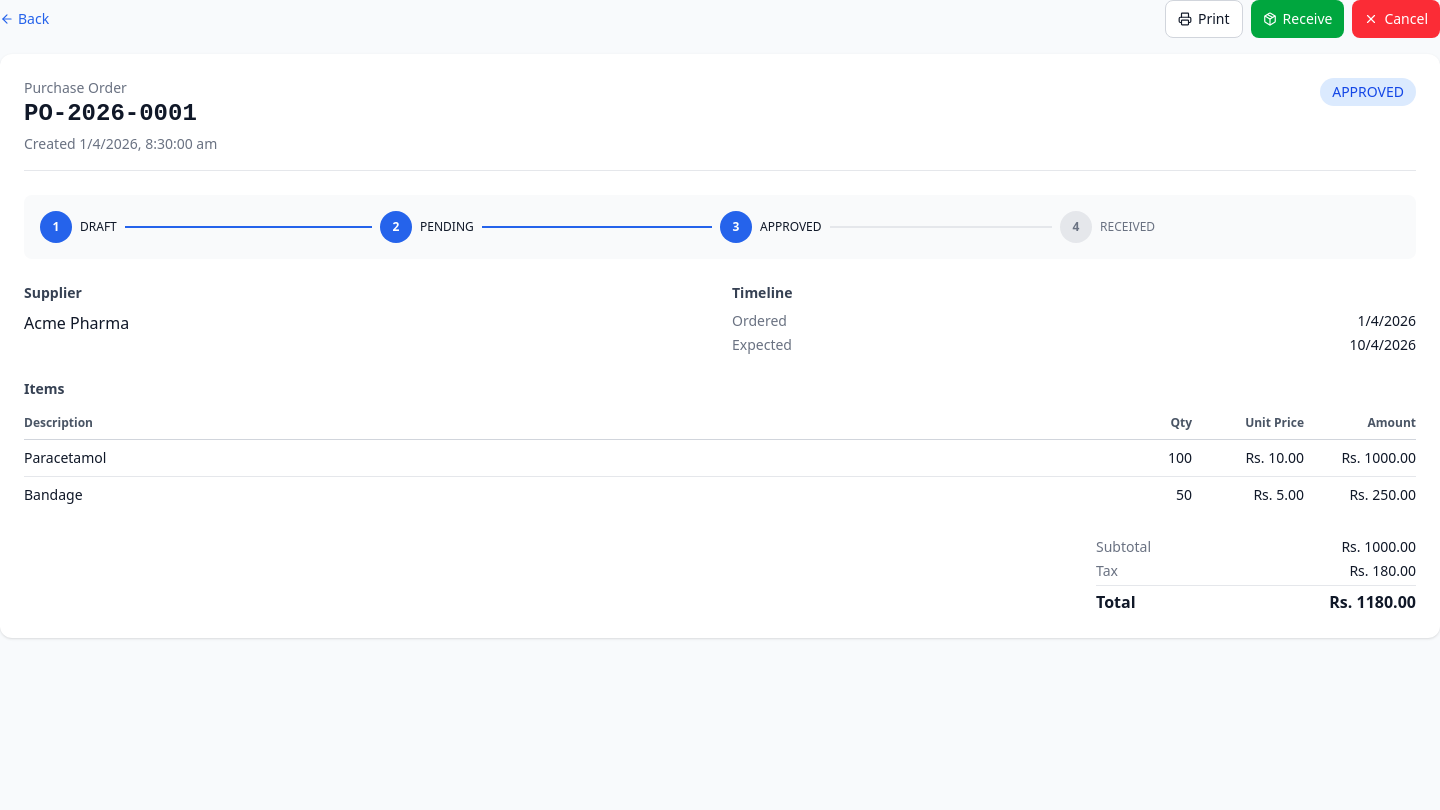
PurchaseOrderDetailPage — PO detail / status transitions / GRN › Receive modal opens with quantities pre-filled and POSTs full-receipt payload
Check: the heading "PO-2026-0001" is shown, box [24,98,217,130]
Click the button "Receive".
click(1298, 19)  # box [1251,0,1344,38]
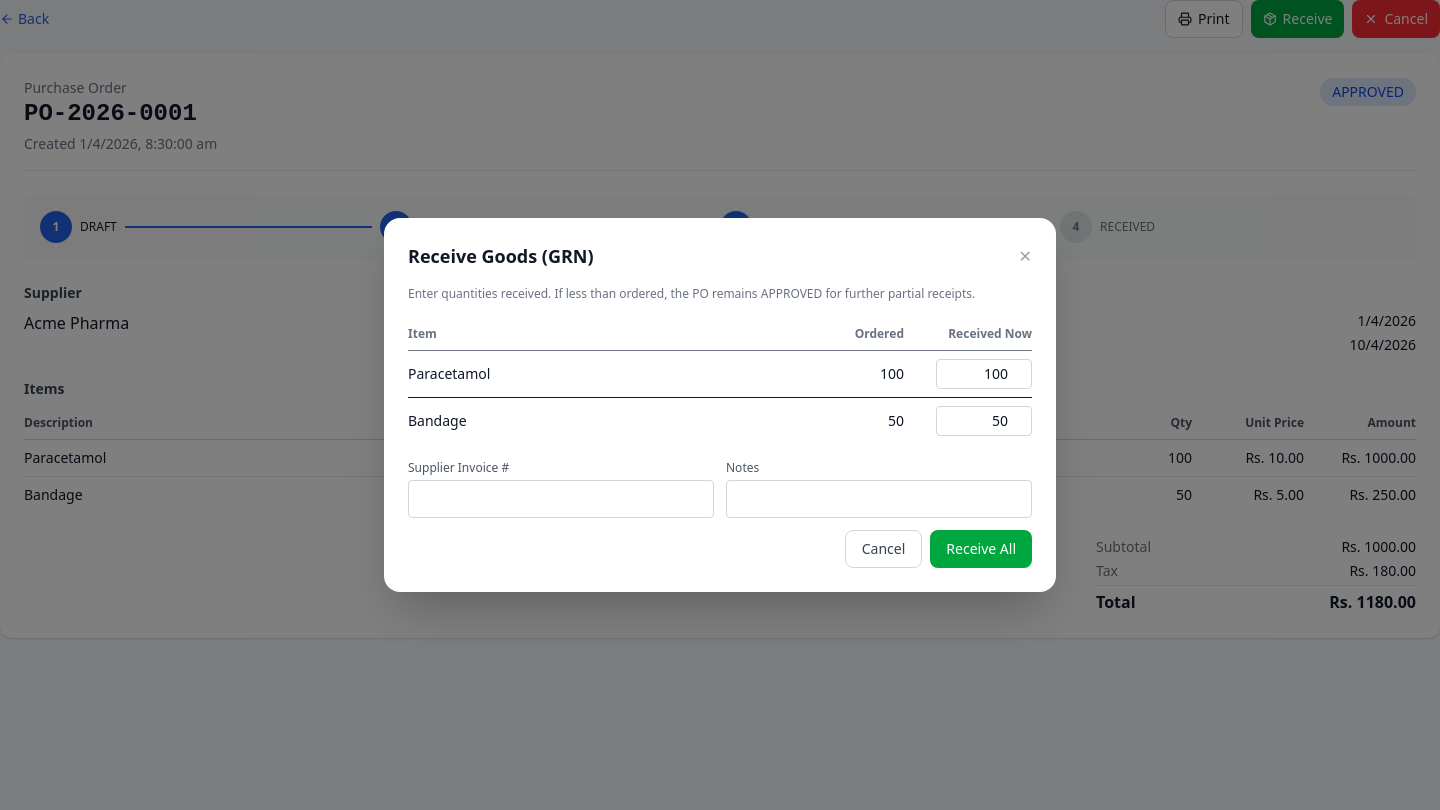
Check: the heading "Receive Goods (GRN)" is shown, box [408,242,594,270]
Check: the button "Receive All" is shown, box [930,530,1032,568]
Fill invoice + notes.
Type "INV-9001" into the field labelled "Supplier Invoice #".
click(561, 499); type("INV-9001")  # box [408,480,714,518]
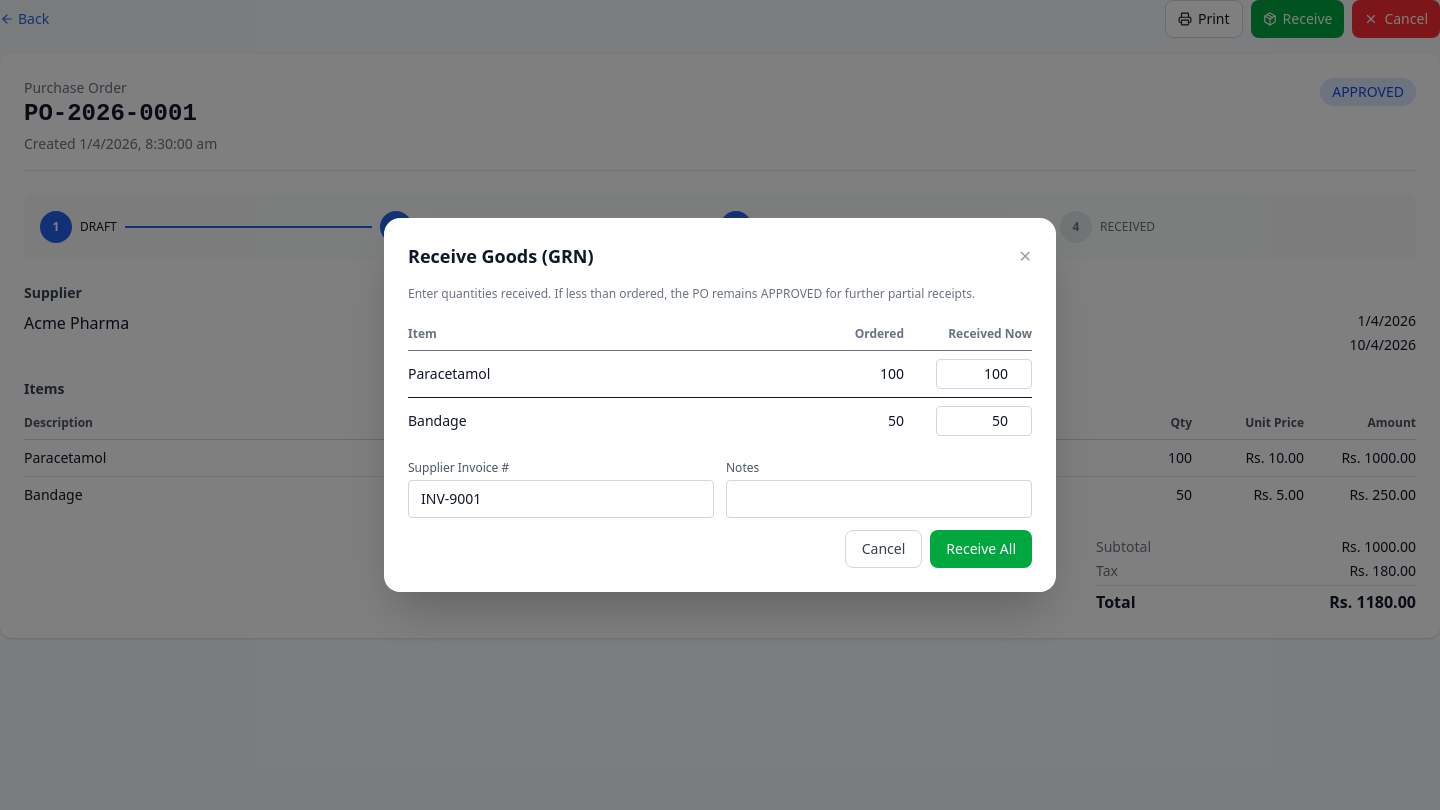
Type "All received in good condition" into the field labelled "Notes".
click(879, 499); type("All received in good condition")  # box [726,480,1032,518]
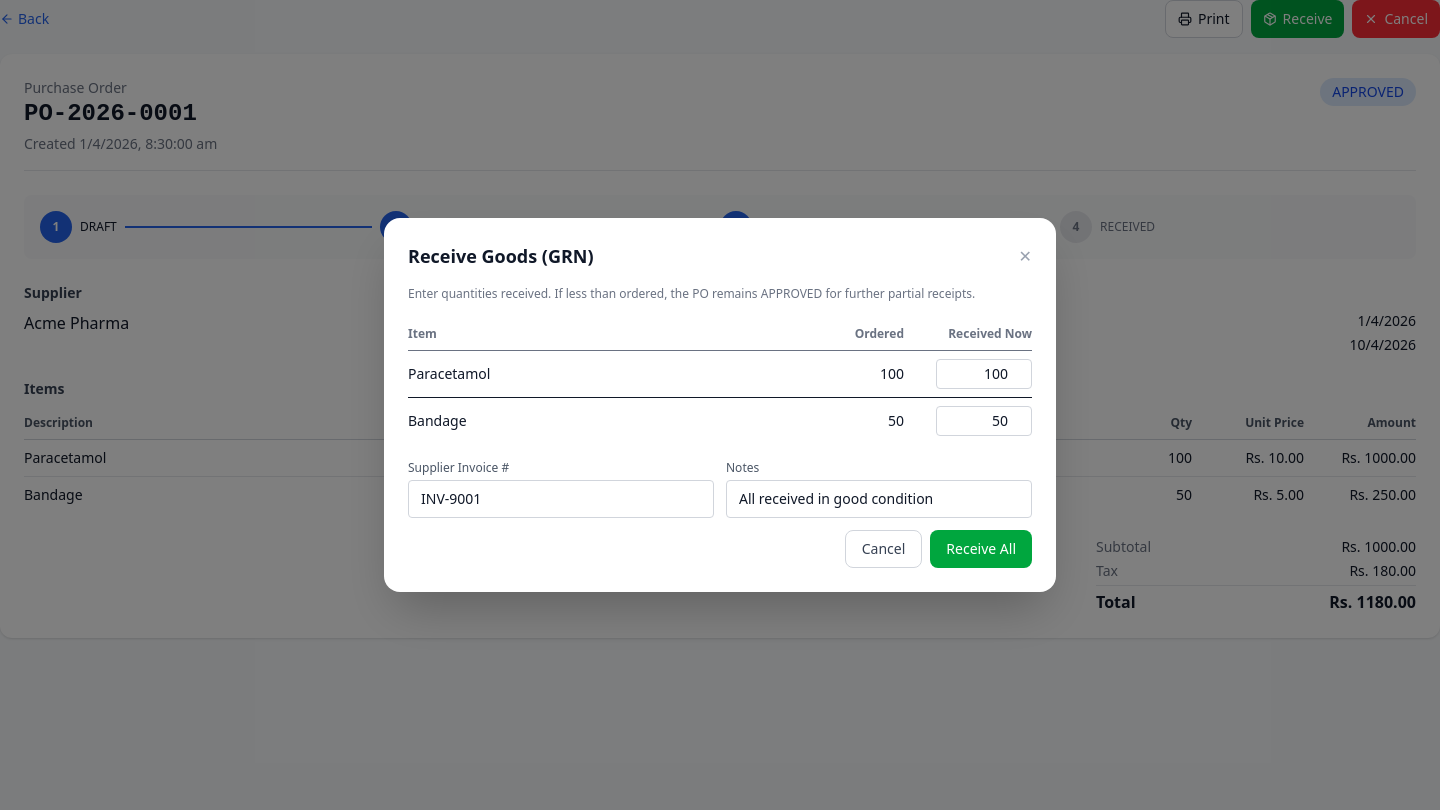
Click the button "Receive All".
click(981, 549)  # box [930,530,1032,568]
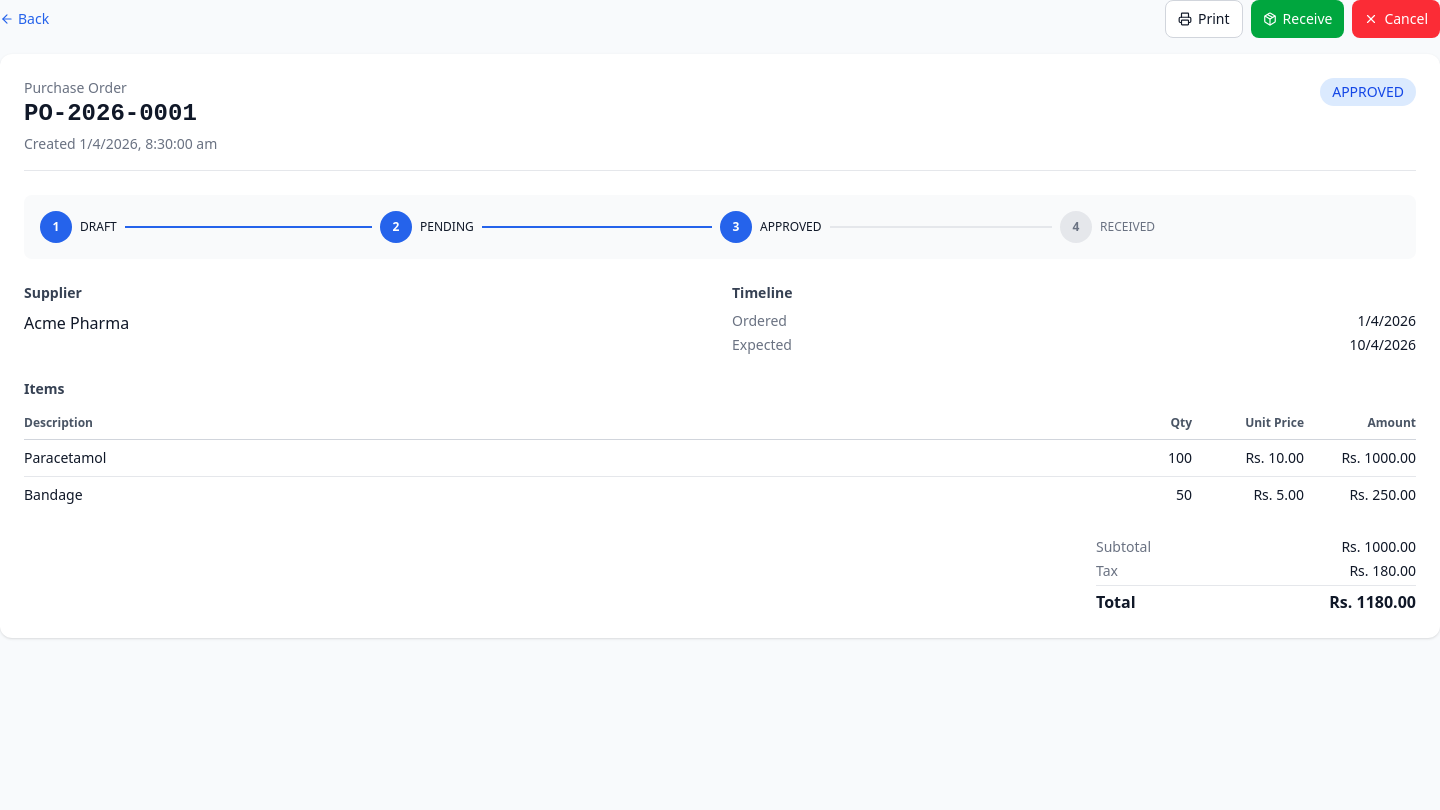
Check: the heading "Receive Goods" is gone
